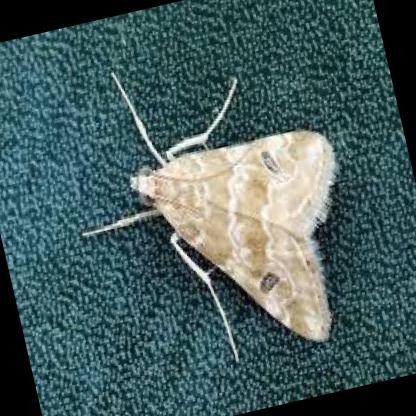Hellula undalis: (77, 44, 344, 370)
